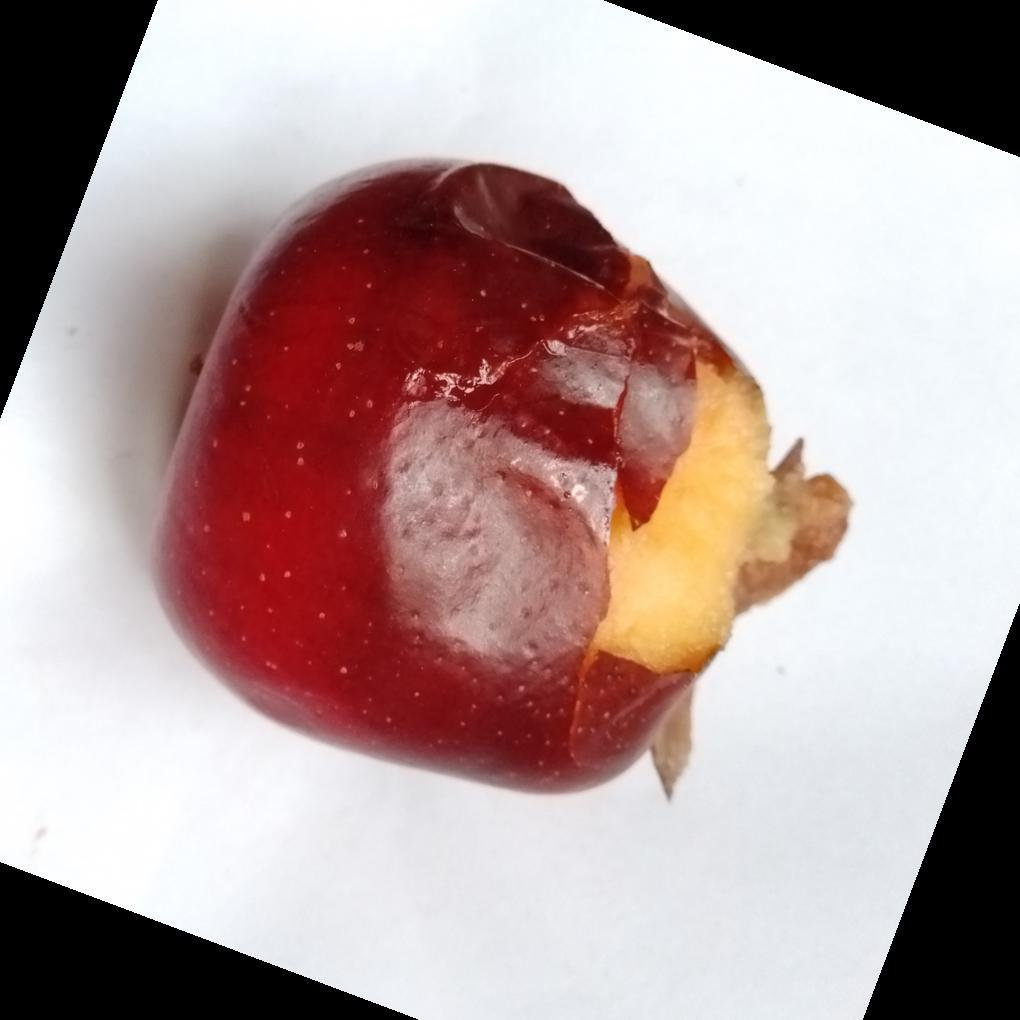FreshOrange: (147, 157, 854, 801)
